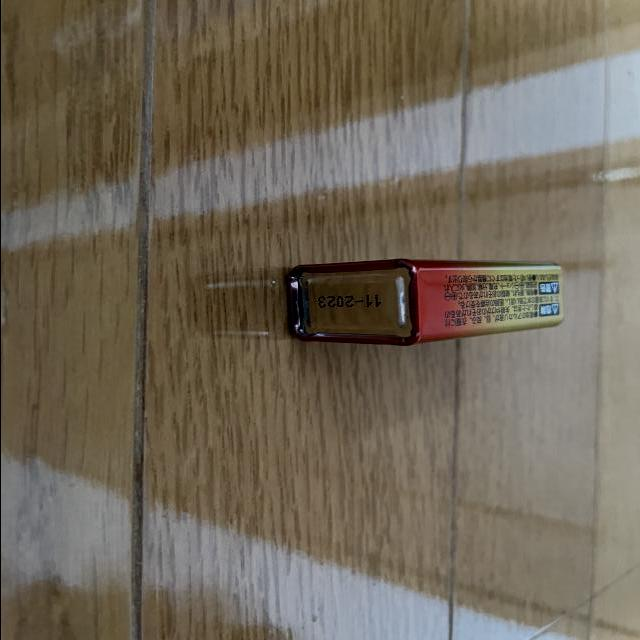9V: (285, 258, 564, 345)
